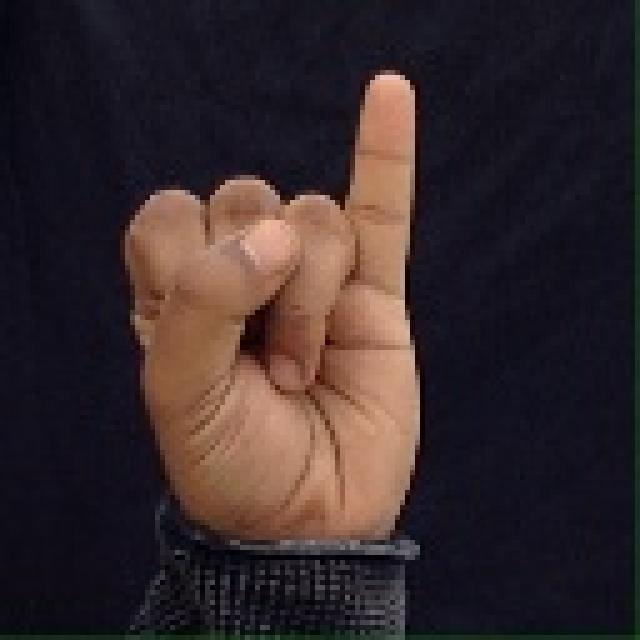Six: (48, 52, 487, 565)
